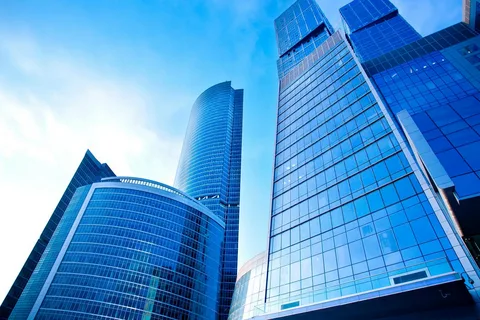high_rise_building: (262, 11, 391, 310), (156, 74, 246, 308)
